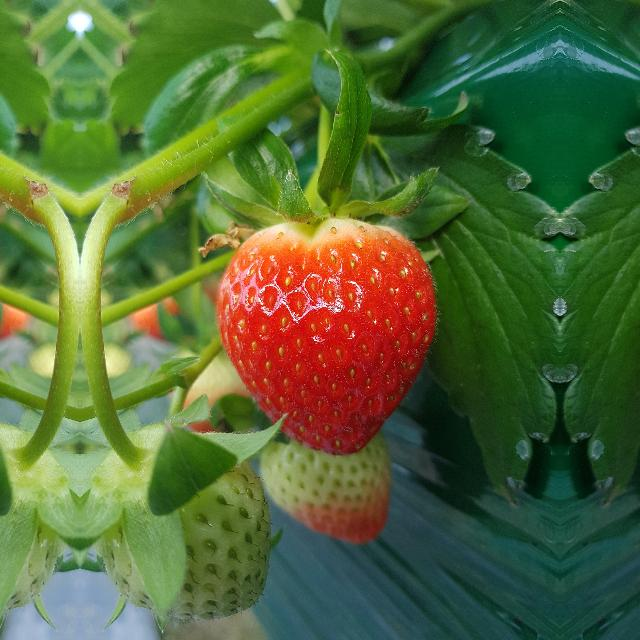Health_100: (213, 217, 437, 455)
Health_25: (87, 442, 270, 614), (0, 441, 72, 614)
Health_50: (262, 423, 404, 542)
